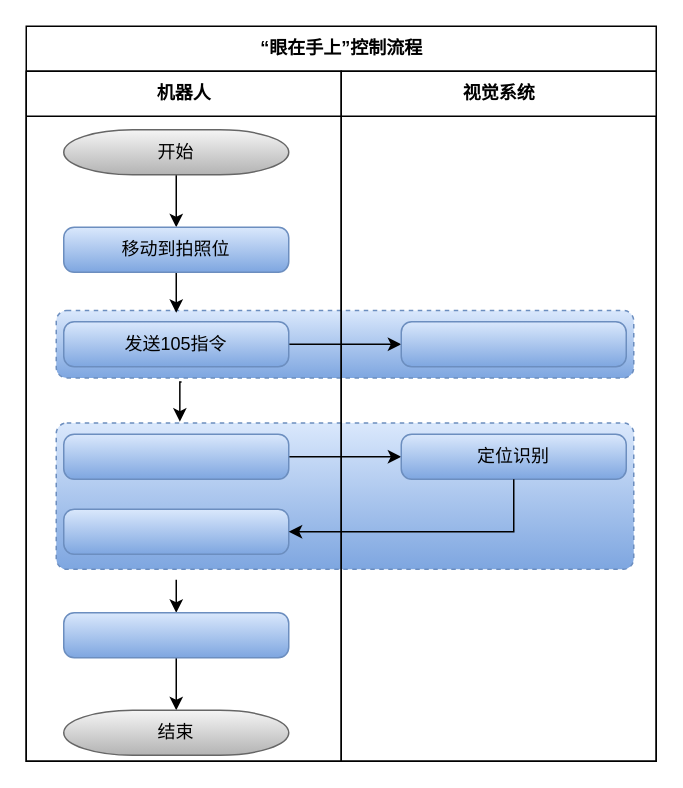
This 683x788 diagram has some shape labels left out. Each missing label, with the centre of its shape:
发送101指令: (175,456)
拍照: (513,343)
接收定位识别结果: (175,531)
移动到目标位置抓取物品: (175,634)
